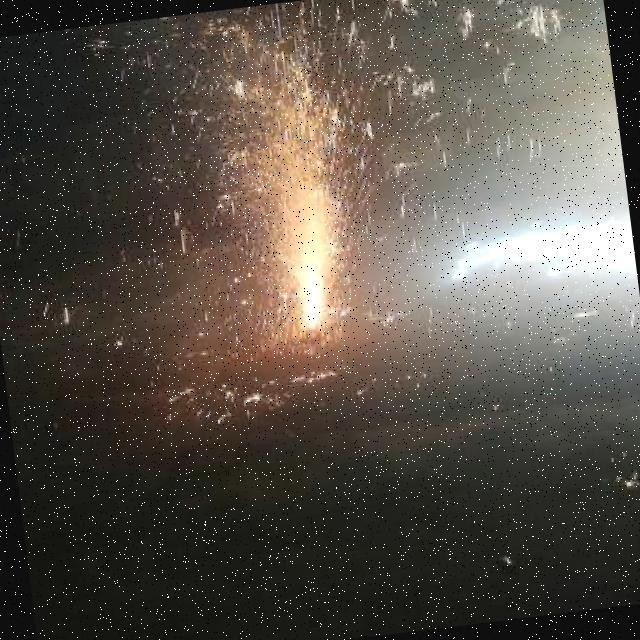Fire: (116, 0, 501, 390)
